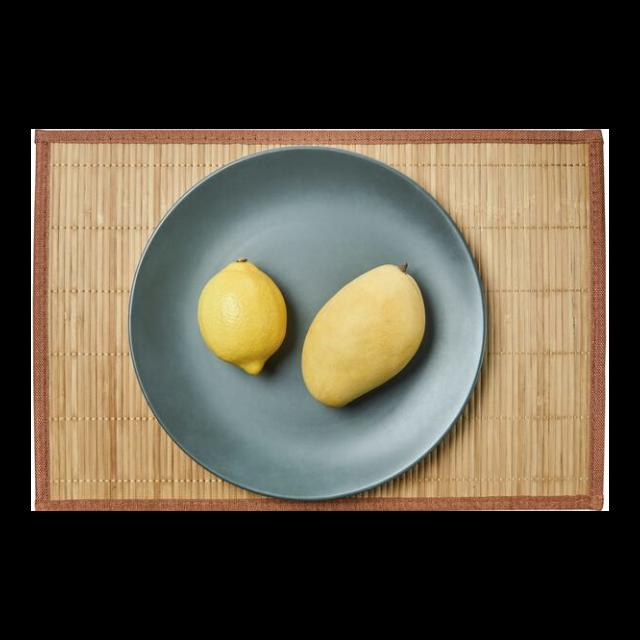mango: (302, 264, 427, 409)
